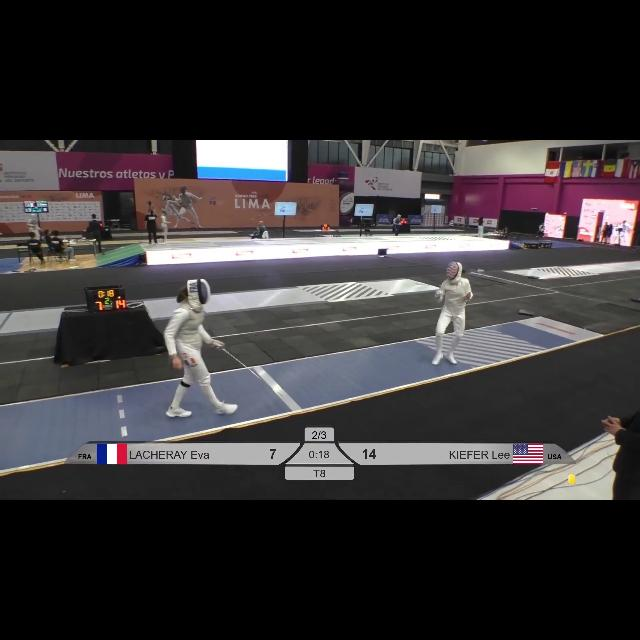blade: (218, 342, 284, 400)
